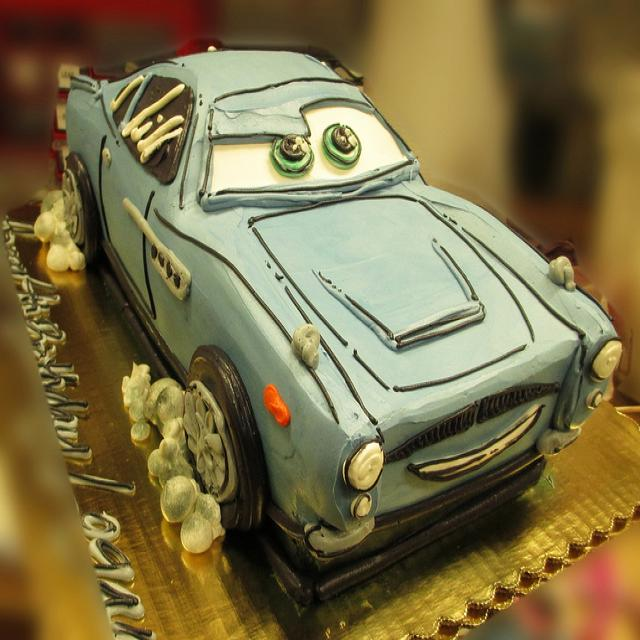Vehicle: (50, 44, 628, 617)
